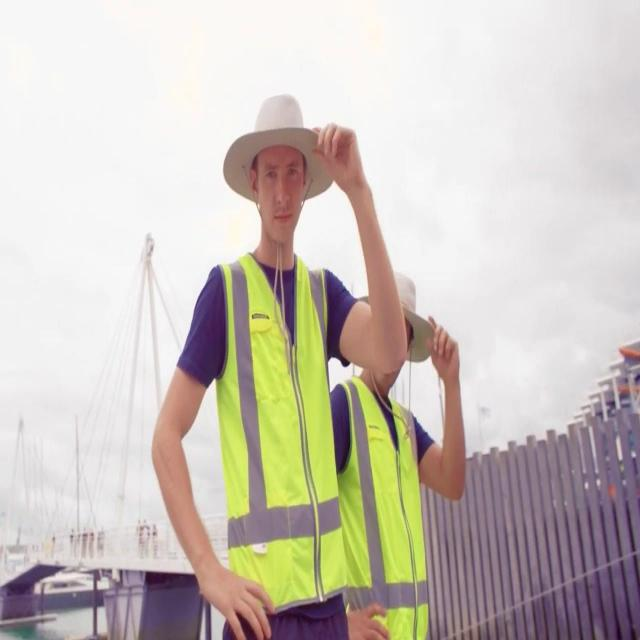Reflective-Jacket: (204, 242, 340, 620), (326, 371, 432, 639)
